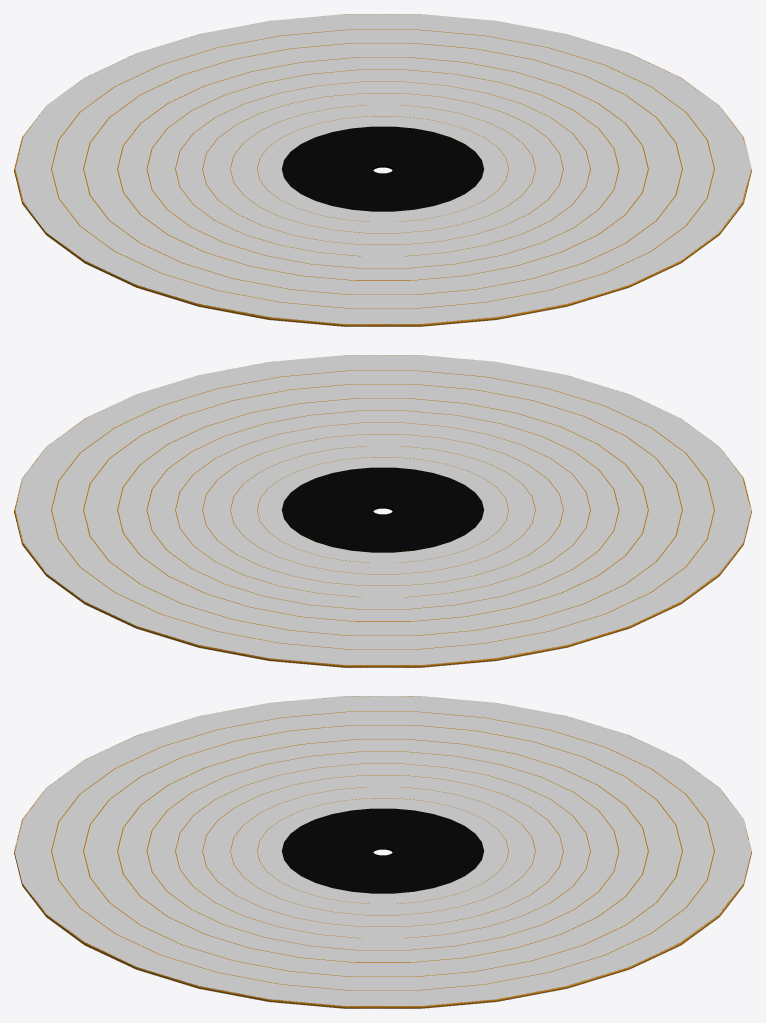
The model's file is blood.glb.
3 renders of one model, top to bottom at view 1: azimuth 30°, elevation 25°; view 2: azimuth 150°, elevation 25°; view 3: azimuth 270°, elevation 25°, orthographic.
Visible parts, largest first — view 1: Circle.001; view 2: Circle.001; view 3: Circle.001.
Boxes of the visible parts, bbox=[...] form: Circle.001: bbox=[14, 14, 751, 326]; Circle.001: bbox=[14, 355, 751, 667]; Circle.001: bbox=[14, 696, 751, 1008].
Size of the model in its own units: 39.55 by 0.1671 by 39.75.
